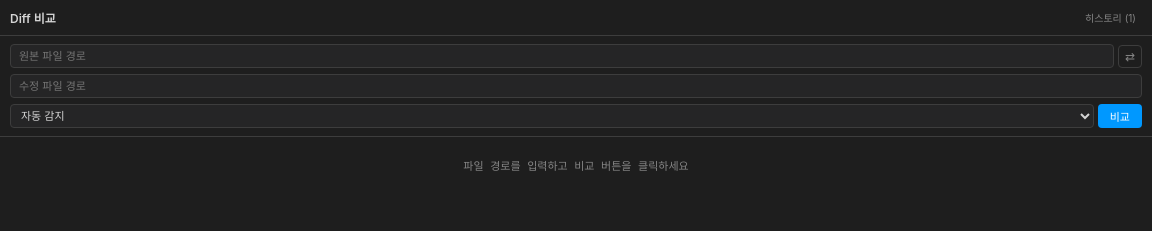
Test: DiffPanel › 히스토리 버튼 클릭 시 히스토리 패널이 열린다
Click the button "히스토리 (1)" at (1110, 18), box [1079,8,1142,27]
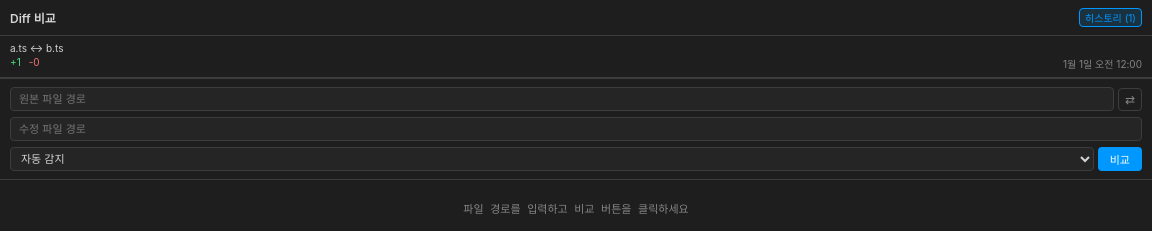
Expected: the text "a.ts ↔ b.ts" is shown, [10,42,64,54]
